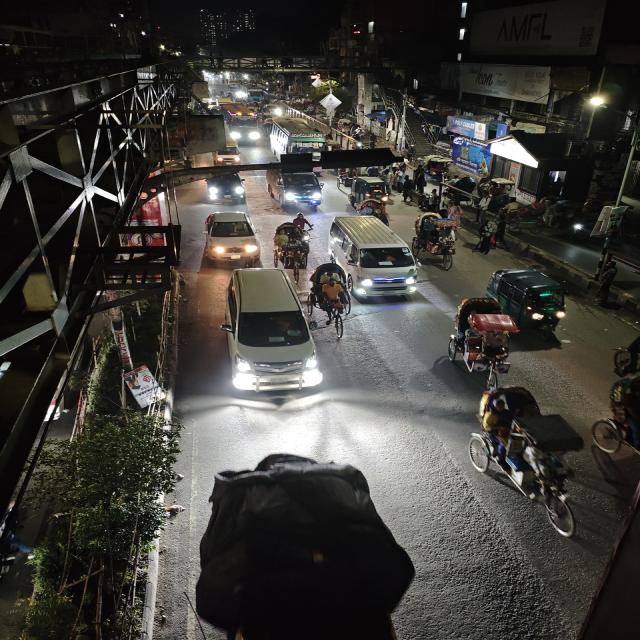bus: (268, 118, 329, 154), (220, 103, 262, 145)
car: (220, 266, 320, 398), (333, 212, 420, 300), (200, 209, 260, 265), (268, 170, 328, 210), (202, 170, 252, 204)
cng: (485, 264, 580, 333)
human_hauler: (214, 144, 244, 166)
motorcycle: (292, 211, 317, 235)
pedestrian: (399, 174, 416, 206)
rickshaw: (468, 377, 616, 549), (446, 294, 518, 377), (307, 260, 350, 328), (415, 212, 463, 268), (272, 220, 312, 268), (348, 175, 392, 205), (356, 188, 391, 220)
